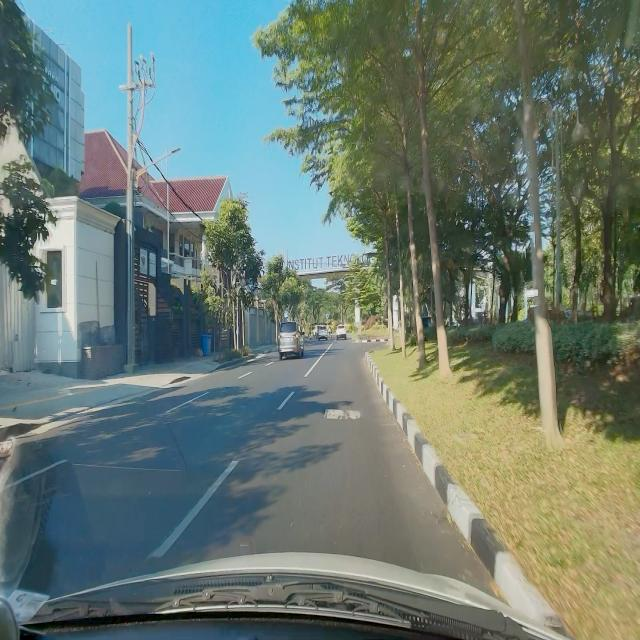car: (277, 319, 305, 362)
